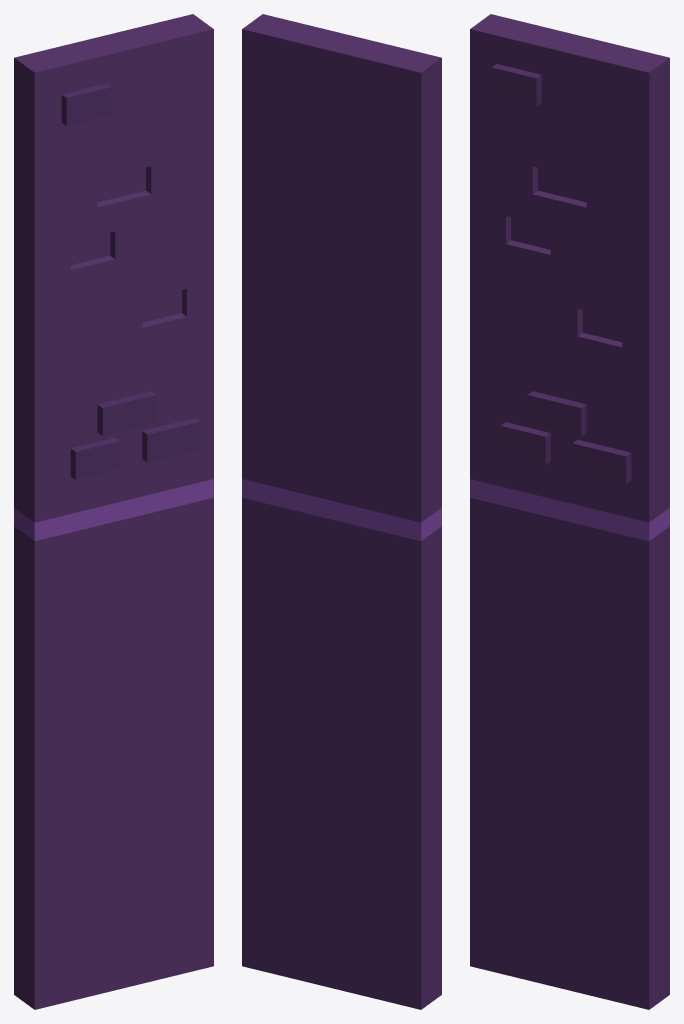
File: wall2.obj
The picture shows the model from 3 angles, left to right: view 1: azimuth 30°, elevation 25°; view 2: azimuth 150°, elevation 25°; view 3: azimuth 330°, elevation 25°; orthographic projection.
Size of the model in its own units: 2 by 10 by 0.5.
1 material, 1 textured.
